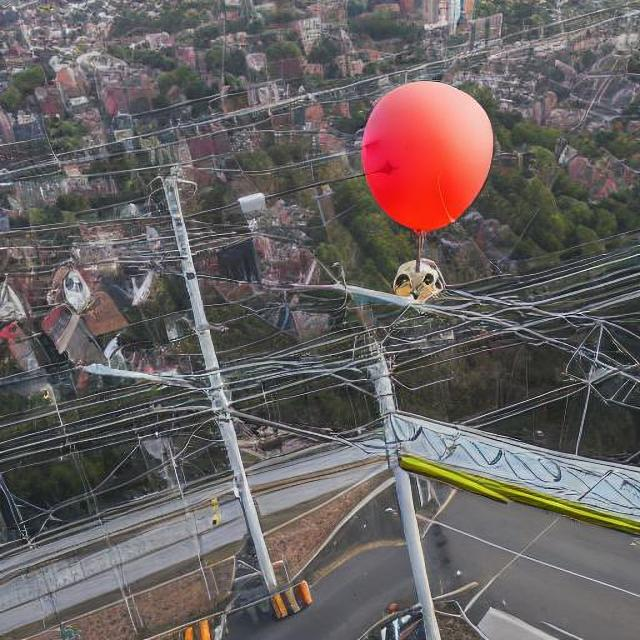balloon: (356, 81, 494, 231)
